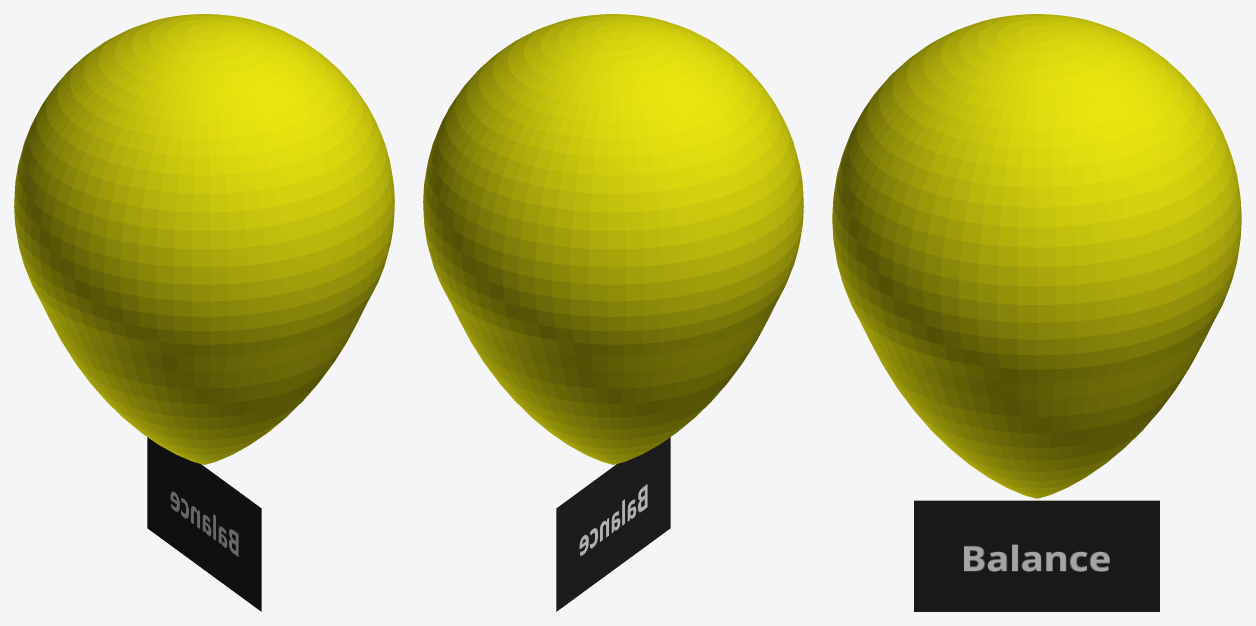
File: ballon_02.glb
3 views of the same model, side by side, from view 1: azimuth 30°, elevation 25°; view 2: azimuth 150°, elevation 25°; view 3: azimuth 270°, elevation 25° (orthographic). The views are drawn at different scales.
Visible parts, largest first — view 1: Balloon_3, Sign; view 2: Balloon_3, Sign; view 3: Balloon_3, Sign.
Part boxes in pixels (bbox=[...]): Balloon_3: bbox=[14, 14, 394, 464]; Sign: bbox=[147, 437, 261, 611]; Balloon_3: bbox=[423, 14, 803, 464]; Sign: bbox=[556, 437, 670, 611]; Balloon_3: bbox=[832, 14, 1241, 498]; Sign: bbox=[914, 500, 1159, 611].
Bounding box in the file's own units: 2 × 3.12 × 2.
2 materials, 1 textured.
